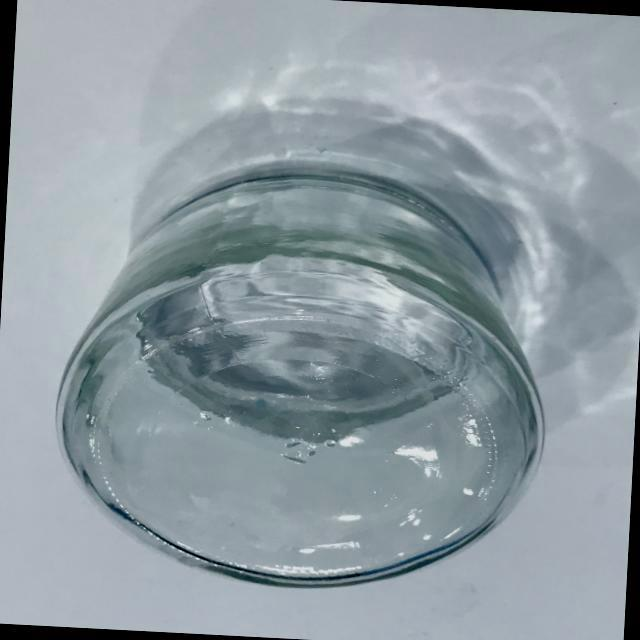glass: (36, 143, 568, 611)
